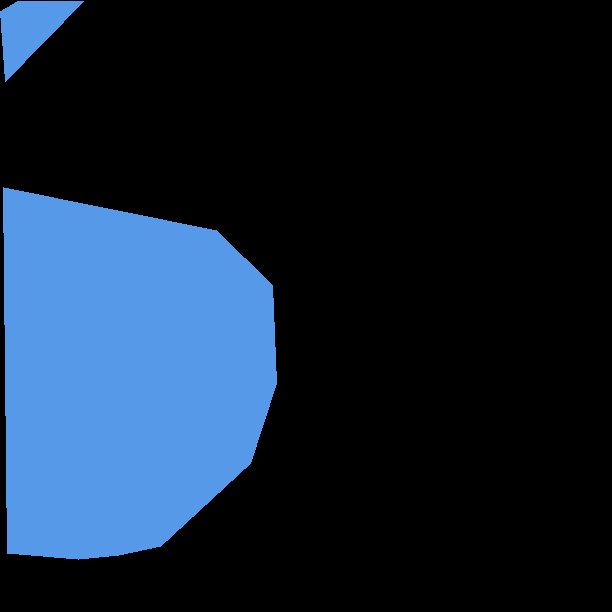Airplane: (0, 1, 276, 560)
